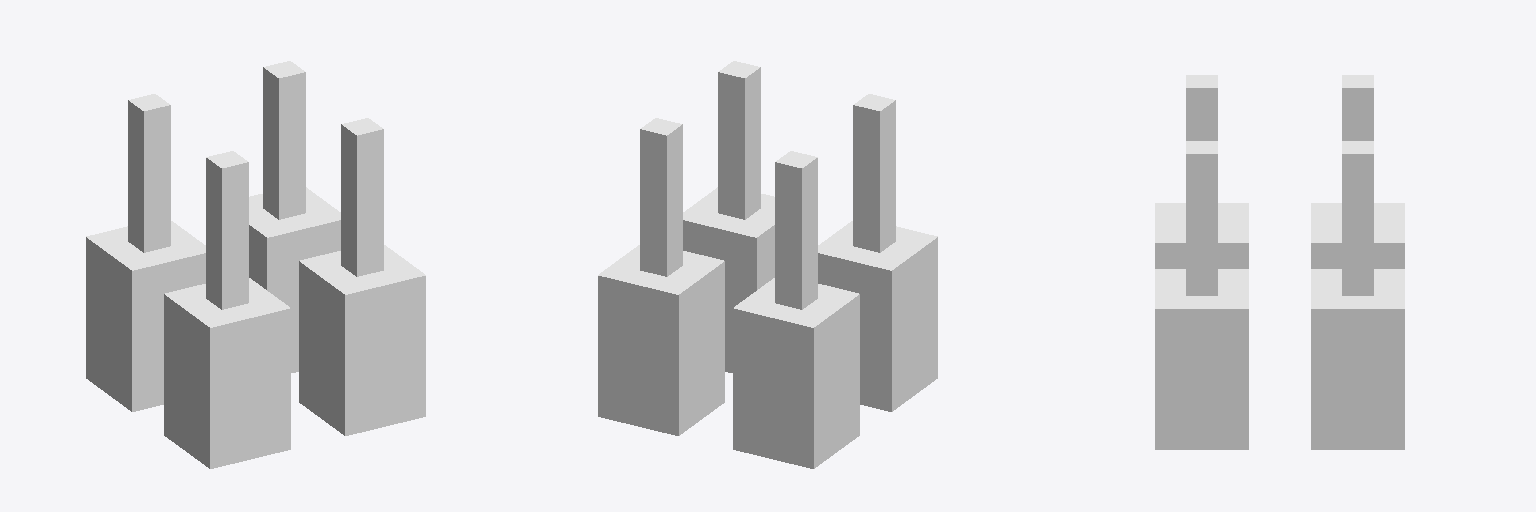
The model's file is box_spike_up.obj.
The picture shows the model from 3 angles: view 1: azimuth 30°, elevation 25°; view 2: azimuth 150°, elevation 25°; view 3: azimuth 270°, elevation 25°; orthographic projection.
Visible parts, largest first — view 1: object 1; view 2: object 1; view 3: object 1.
Boxes of the visible parts, <box> form: object 1: <box>86,61,425,468</box>; object 1: <box>598,61,937,468</box>; object 1: <box>1155,75,1404,449</box>.
Size of the model in its own units: 0.8 by 1 by 0.8.